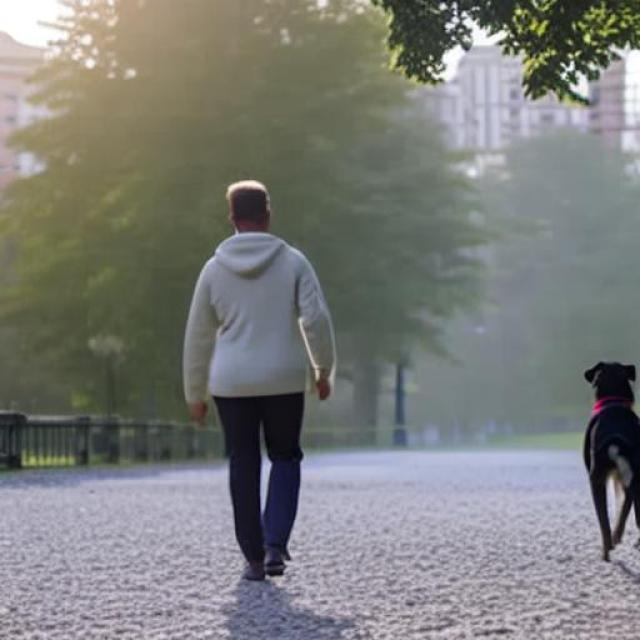Unleashed_Dog: (215, 360, 640, 579)
